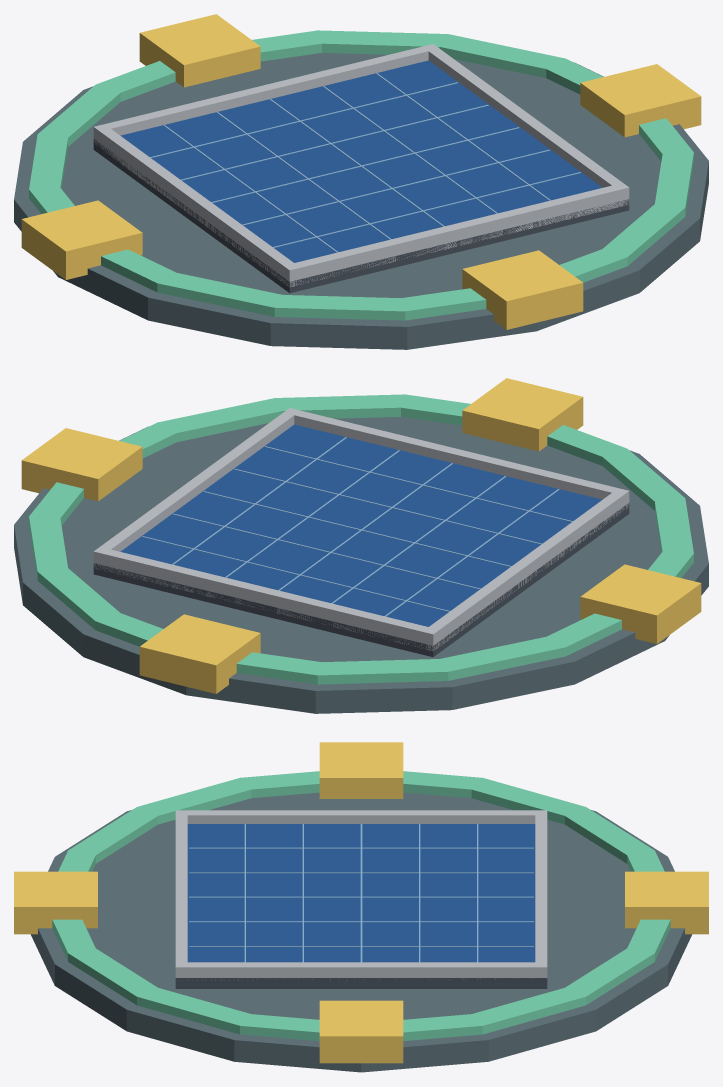
The model's file is SM_Seal_Single.glb.
3 views of the same model, one above another, from view 1: azimuth 30°, elevation 25°; view 2: azimuth 150°, elevation 25°; view 3: azimuth 270°, elevation 25° (orthographic). The views are drawn at different scales.
Parts seen in each view (by area): view 1: SM_Seal_Single; view 2: SM_Seal_Single; view 3: SM_Seal_Single.
Part boxes in pixels (left/top/right/bottom): SM_Seal_Single: left=14, top=14, right=708, bottom=349; SM_Seal_Single: left=14, top=378, right=708, bottom=713; SM_Seal_Single: left=14, top=742, right=708, bottom=1072.
Bounding box in the file's own units: 5.8 × 0.4 × 5.8.
